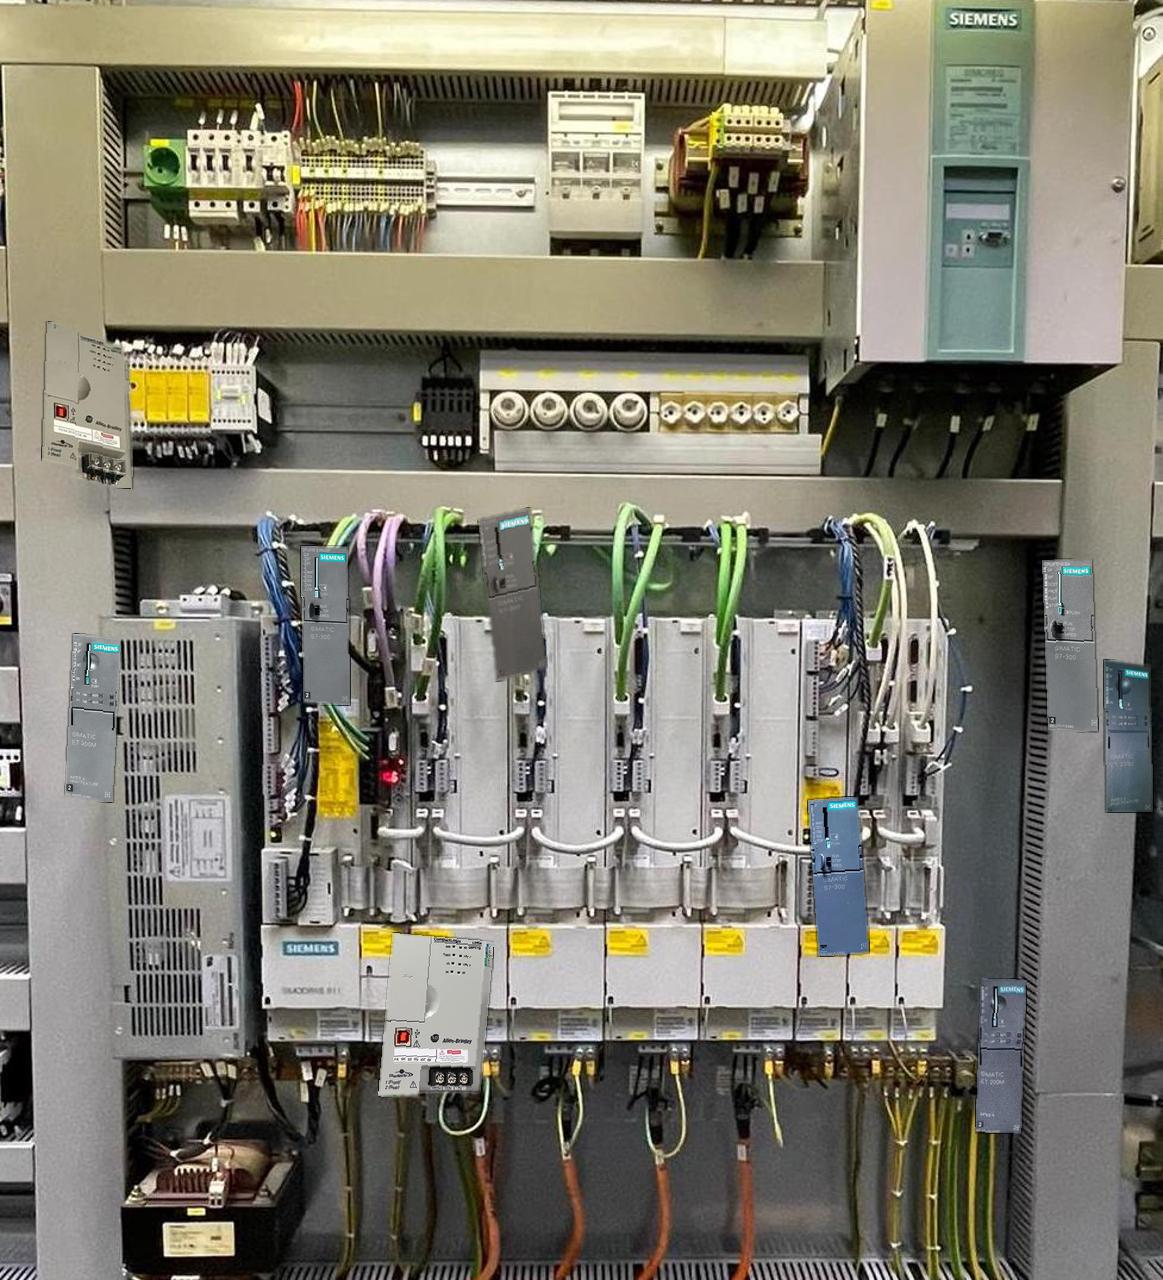AllenBradley: (378, 933, 493, 1096), (42, 321, 132, 488)
Siemens: (478, 508, 545, 680), (1041, 560, 1097, 730), (808, 797, 868, 956), (301, 546, 349, 704)
